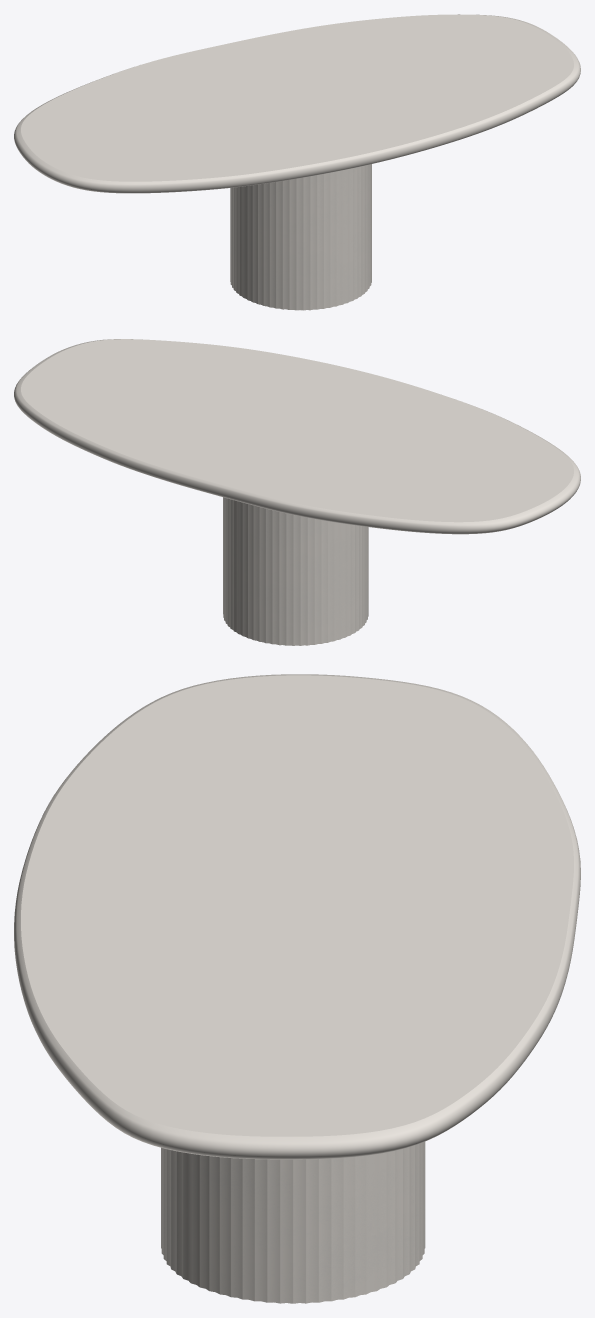
Rendered from pearlwhite_danish_round_ripple.glb.
3 views of the same model, one above another, from view 1: azimuth 30°, elevation 25°; view 2: azimuth 150°, elevation 25°; view 3: azimuth 270°, elevation 25° (orthographic). The views are drawn at different scales.
Parts seen in each view (by area): view 1: round_danish, ripple; view 2: round_danish, ripple; view 3: round_danish, ripple.
Part boxes in pixels (<box>): round_danish: <box>14,14,580,193</box>; ripple: <box>230,164,371,310</box>; round_danish: <box>14,339,580,534</box>; ripple: <box>223,497,368,645</box>; round_danish: <box>14,674,580,1159</box>; ripple: <box>161,1141,425,1303</box>.
Size of the model in its own units: 7.5 by 2.51 by 3.8.
1 material, 1 textured.
